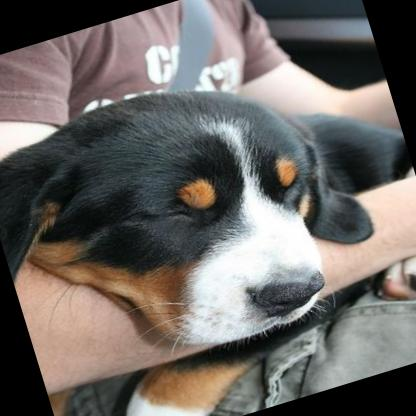Greater_Swiss_Mountain_dog: (0, 24, 416, 416)
